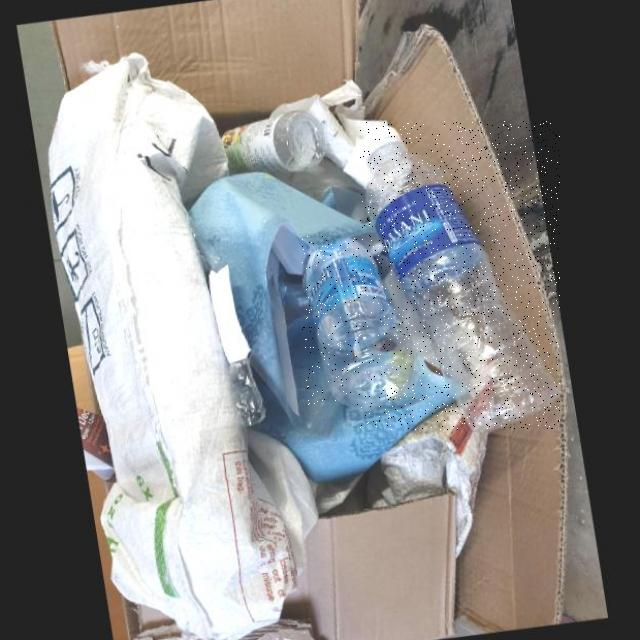plastic: (361, 121, 560, 430), (302, 236, 420, 407)
